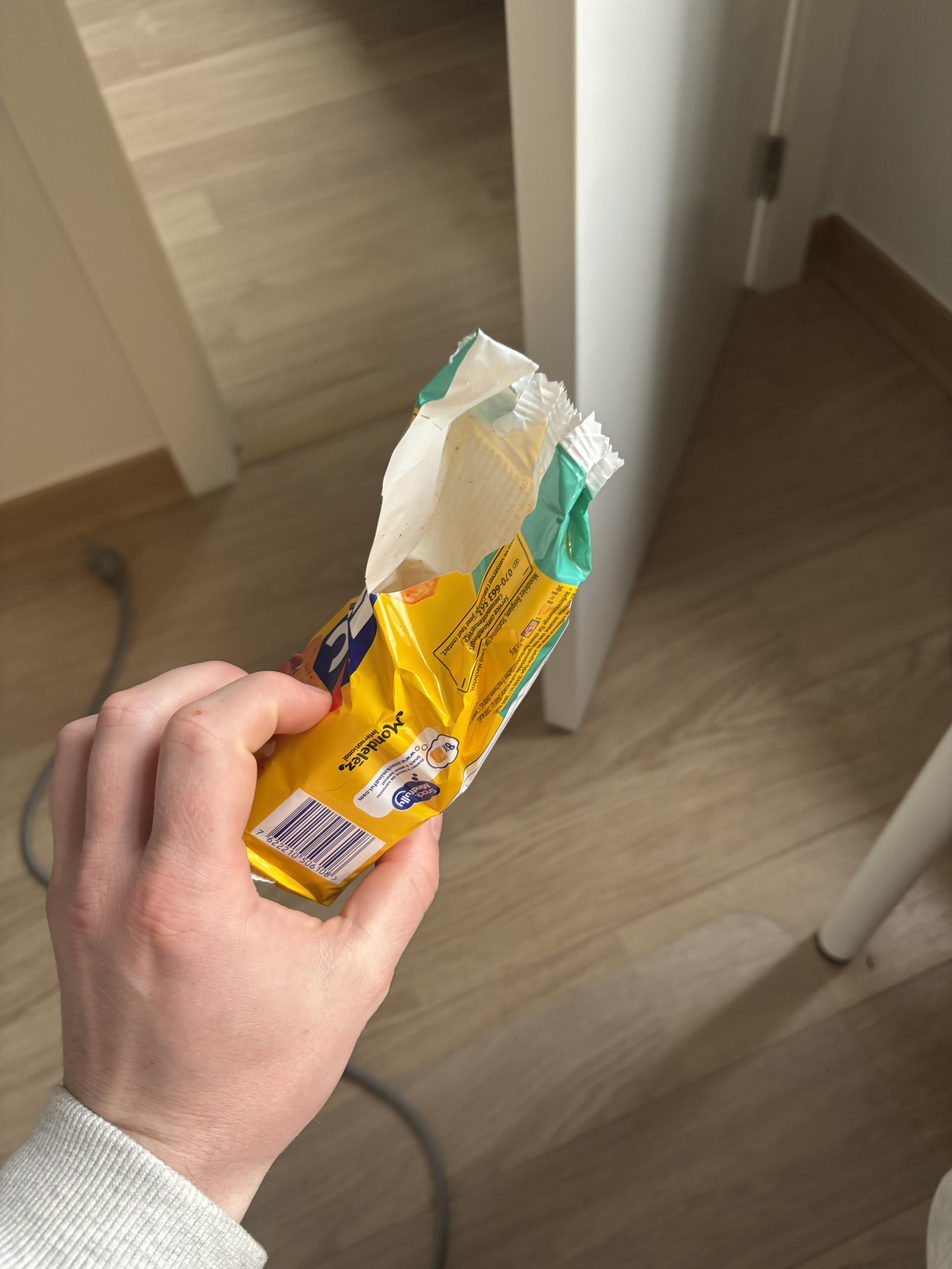Plastic: (238, 333, 629, 910)
